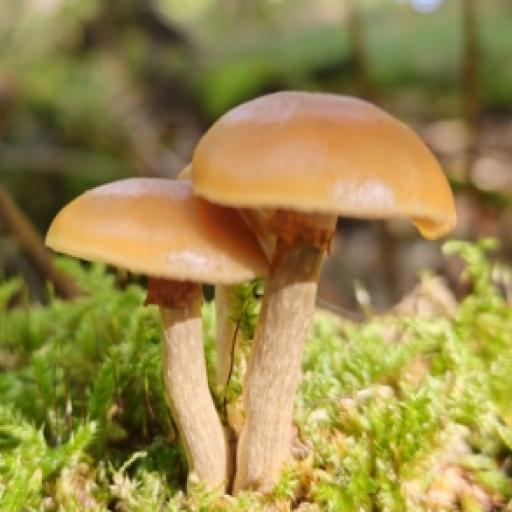mushroom: (32, 85, 466, 380)
